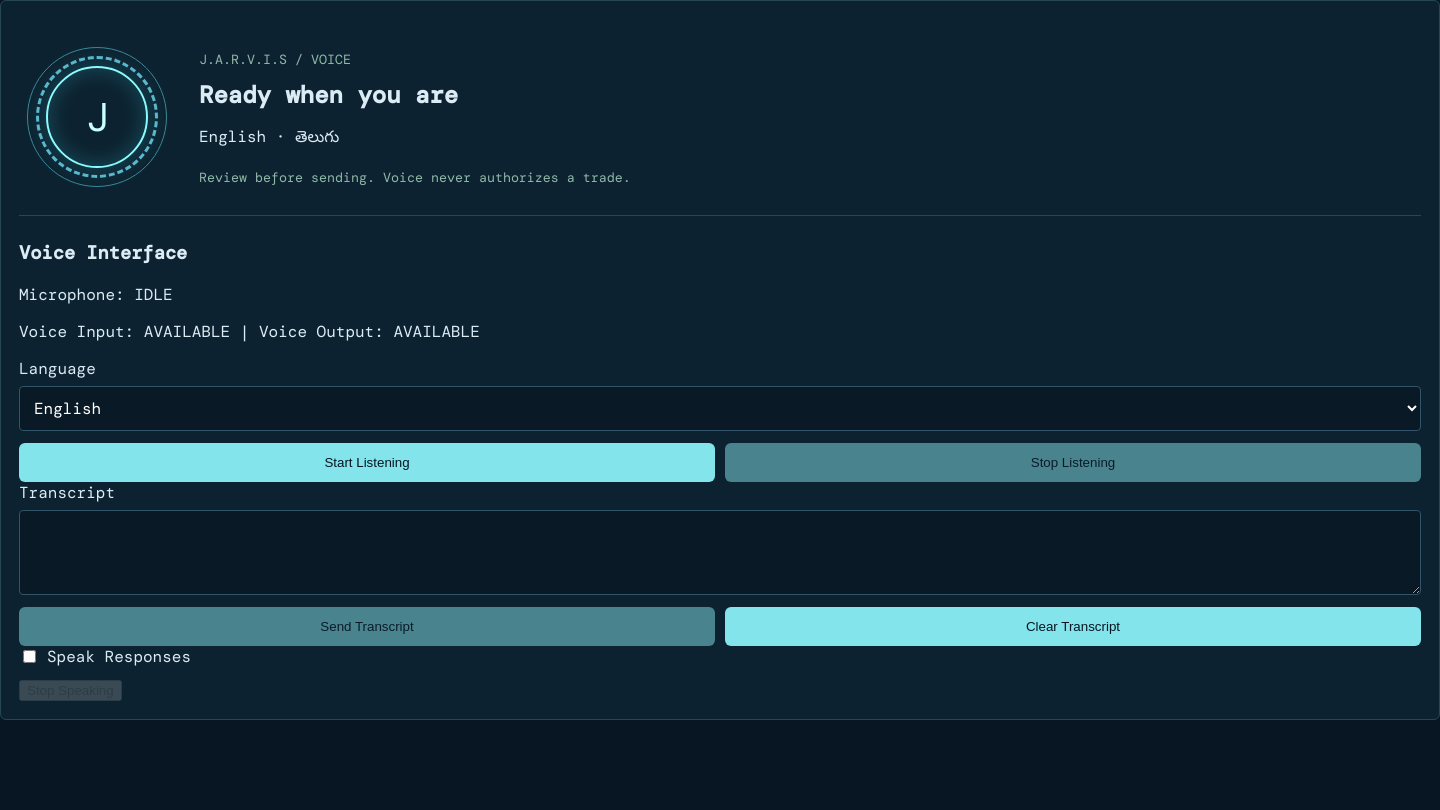
Test: VoicePanel › shows explicit controls, capabilities, labels, and no auto-submit
The image size is (1440, 810).
Check: the button "Stop Listening" is shown, box [725,443,1421,482]
Check: the dropdown named "Voice language" is shown, box [19,386,1421,431]
Click the button "Start Listening" at (367, 462), box [19,443,715,482]
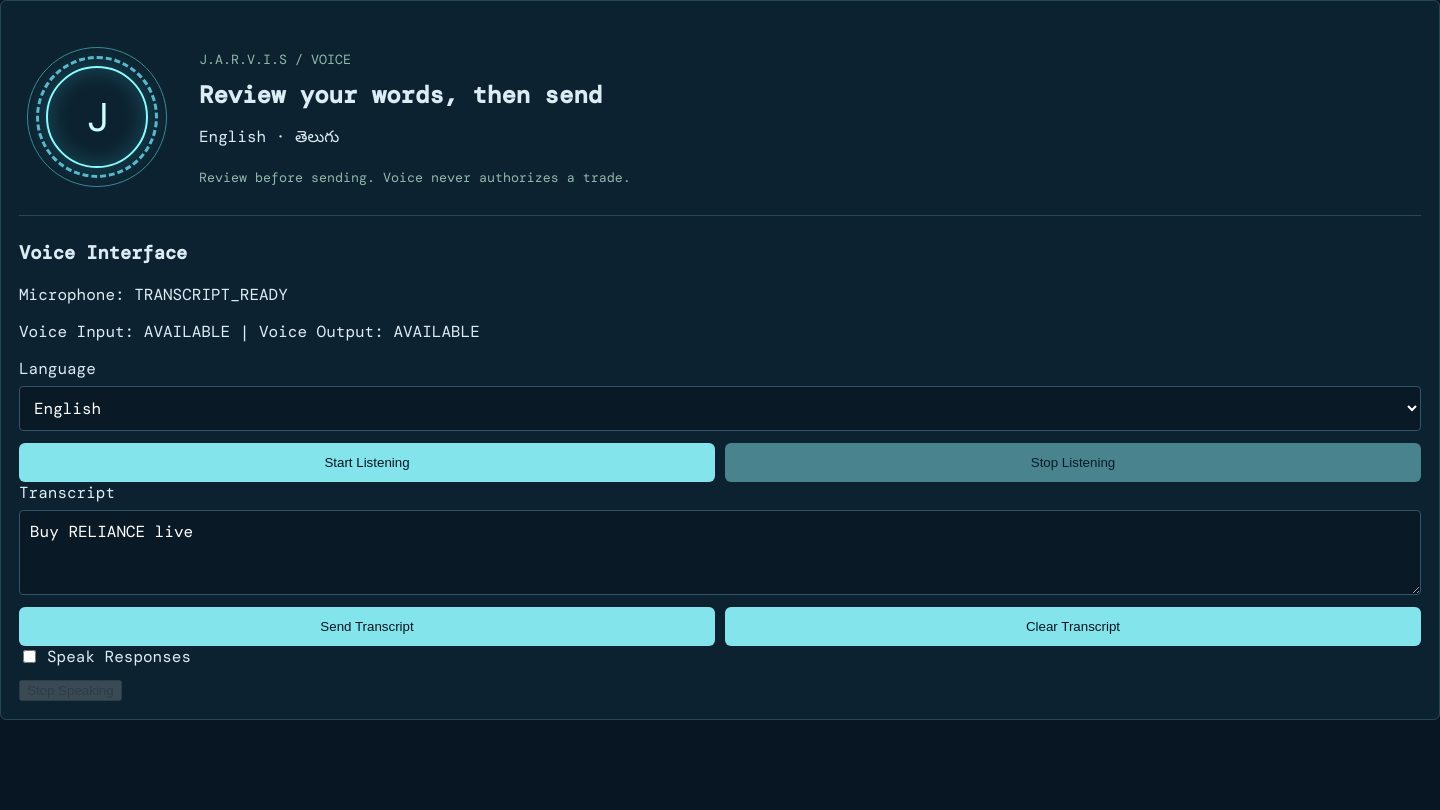
Check: the text box showing "Buy RELIANCE live" is shown, box [19,510,1421,595]
